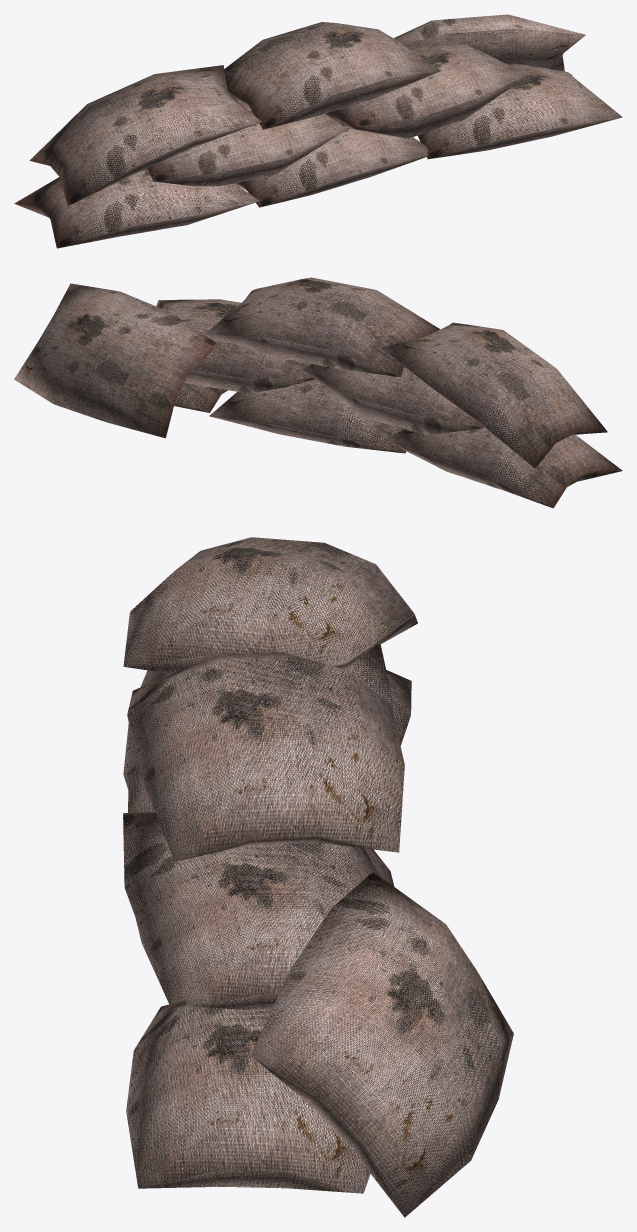
Rendered from bags.obj.
3 renders of one model, top to bottom at view 1: azimuth 30°, elevation 25°; view 2: azimuth 150°, elevation 25°; view 3: azimuth 270°, elevation 25°, orthographic. The views are drawn at different scales.
Parts seen in each view (by area): view 1: bags; view 2: bags; view 3: bags.
Part boxes in pixels (x1,y1,x2,y2): bags: (14, 14, 622, 248); bags: (14, 277, 622, 508); bags: (123, 537, 513, 1217).
Bounding box in the file's own units: 33.04 × 7.35 × 10.08.
Materials: 1 (1 with a texture image).
